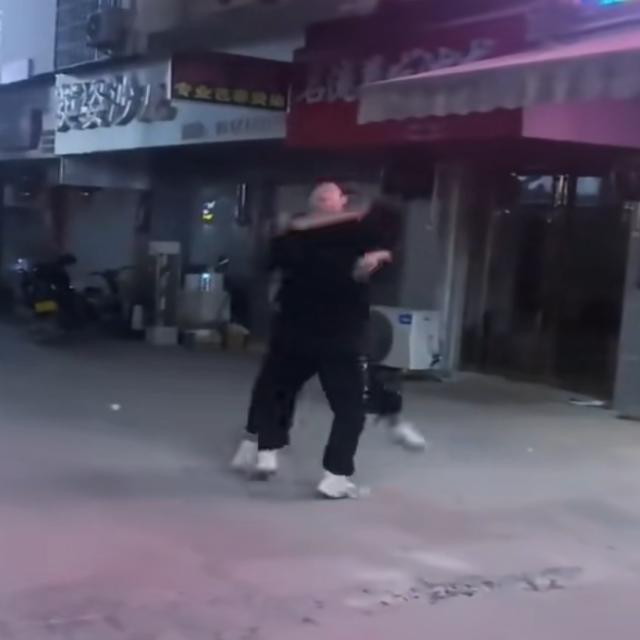fight: (242, 176, 432, 511)
